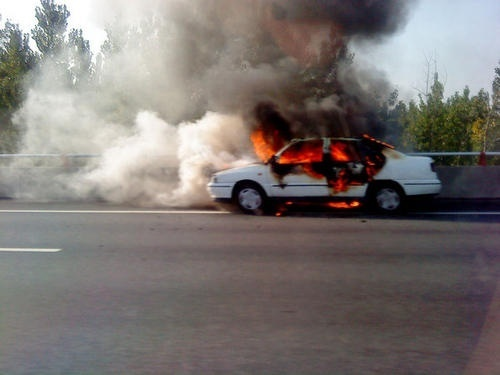fire: (244, 123, 391, 213)
